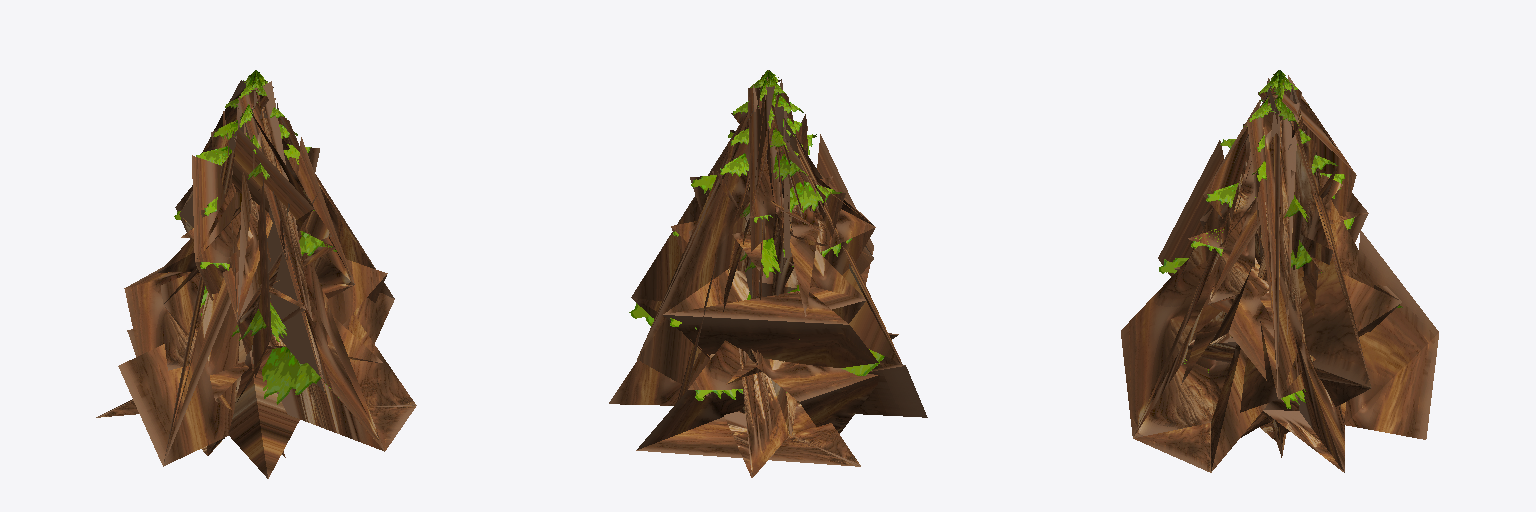
3 renders of one model, left to right at view 1: azimuth 30°, elevation 25°; view 2: azimuth 150°, elevation 25°; view 3: azimuth 270°, elevation 25°, orthographic.
Parts seen in each view (by area): view 1: pCube4, polySurfac; view 2: pCube4, polySurfac; view 3: pCube4, polySurfac.
Boxes of the visible parts, x1,y1,x2,y2 form: pCube4: [96, 80, 416, 478]; polySurfac: [174, 70, 338, 404]; pCube4: [609, 70, 927, 477]; polySurfac: [629, 70, 884, 400]; pCube4: [1121, 75, 1438, 472]; polySurfac: [1159, 70, 1402, 408].
Size of the model in its own units: 22.84 by 29.4 by 22.84.
Materials: 2 (2 with a texture image).